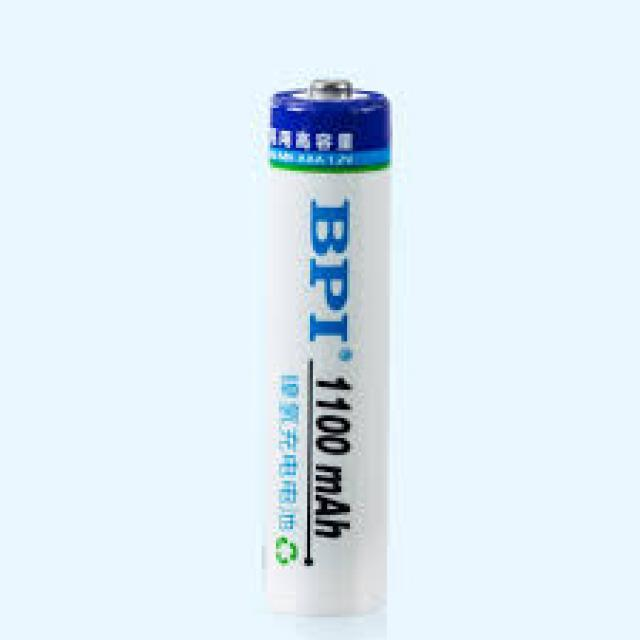battery: (264, 72, 394, 616)
